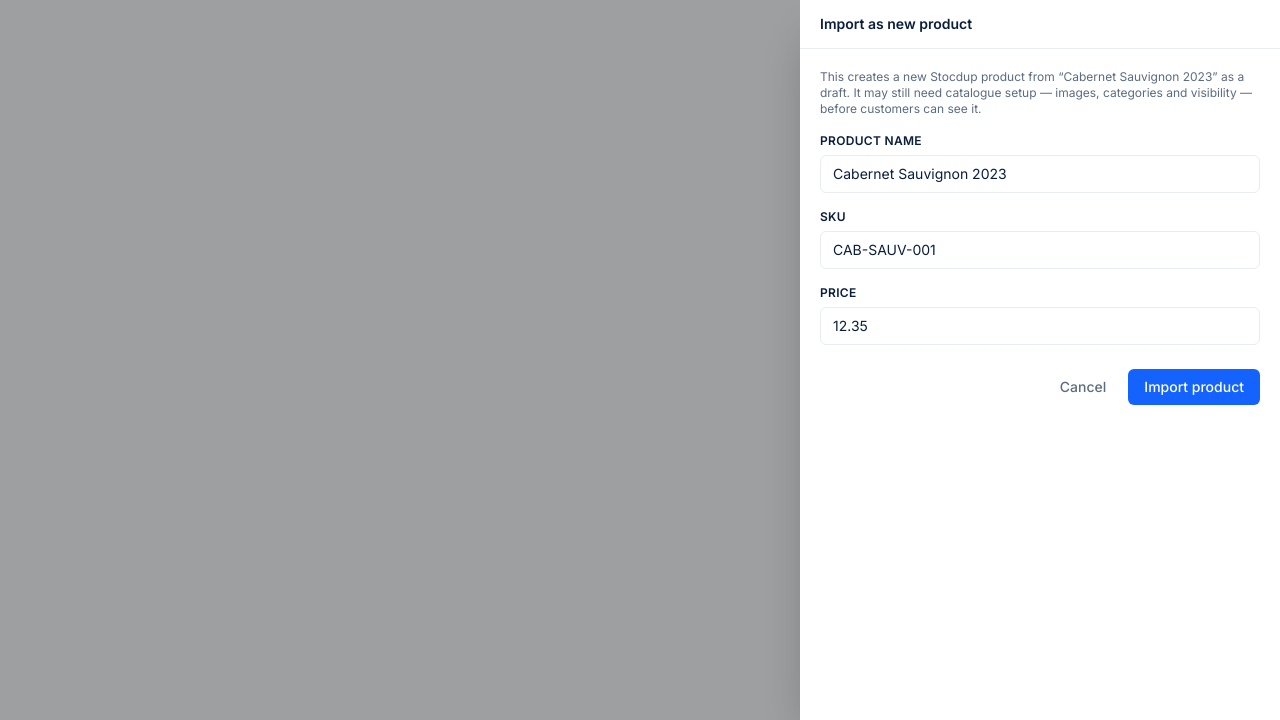
ImportProductDialog › shows a field-level error under SKU on a 409 conflict, not the generic banner
The image size is (1280, 720).
Step 1. Click the button "Import product" → (1194, 387), box left=1128, top=369, right=1260, bottom=405
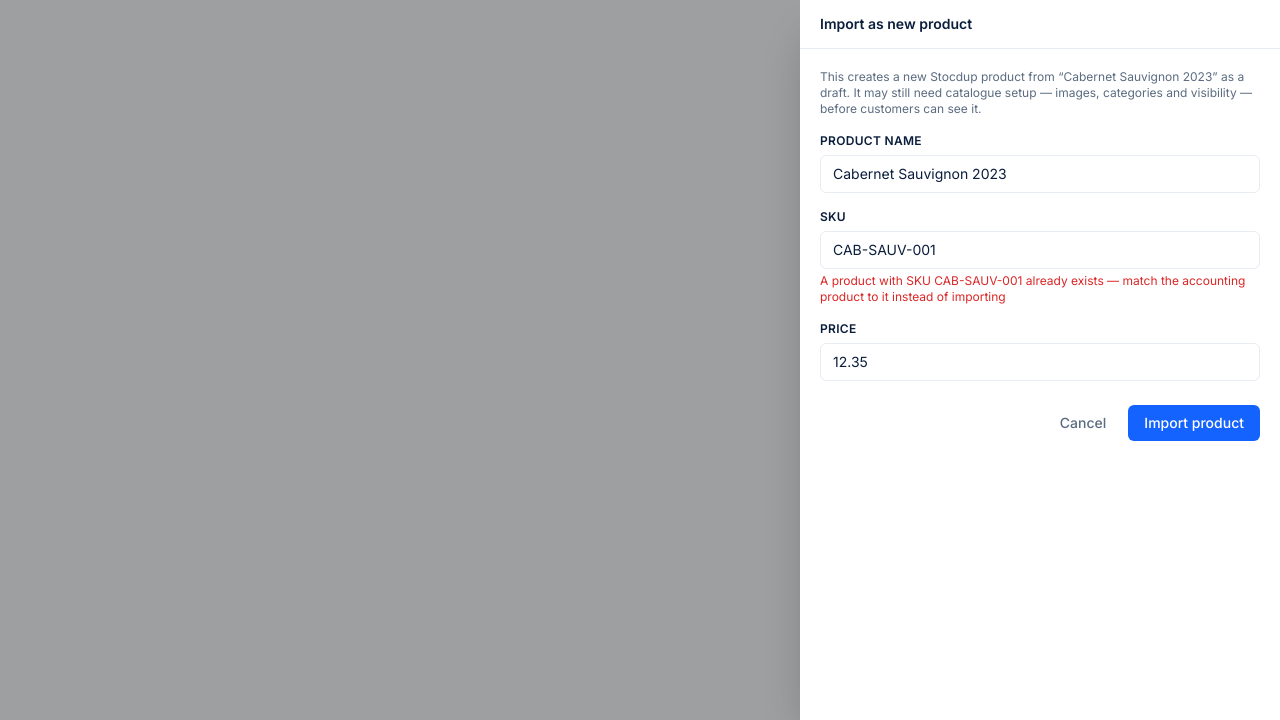
Check: the text "A product with SKU CAB-SAUV-001 already exists" is shown, box left=820, top=273, right=1245, bottom=304
